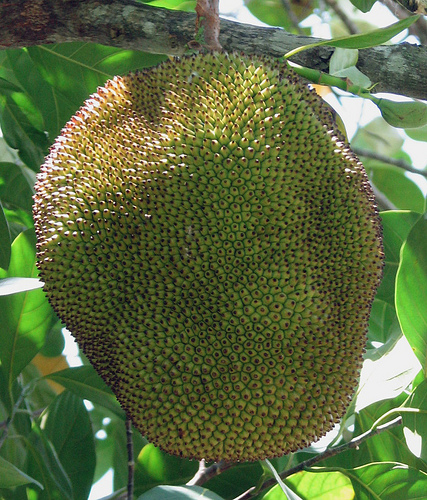jackfruit: (30, 46, 383, 465)
